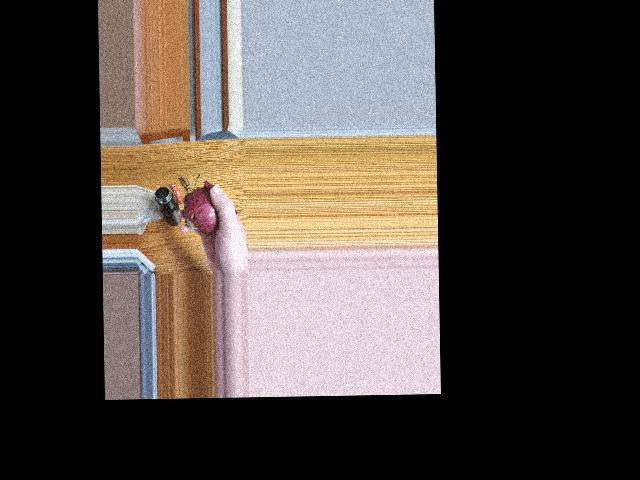onion: (184, 192, 224, 234)
